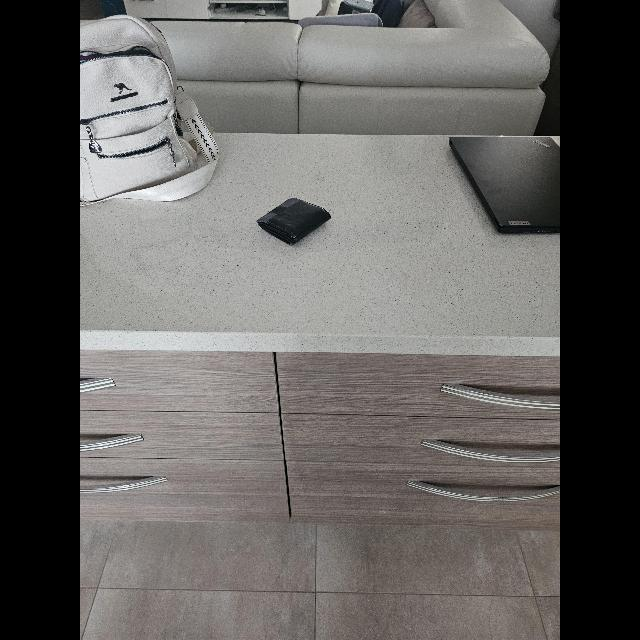Wallet: (256, 198, 332, 246)
